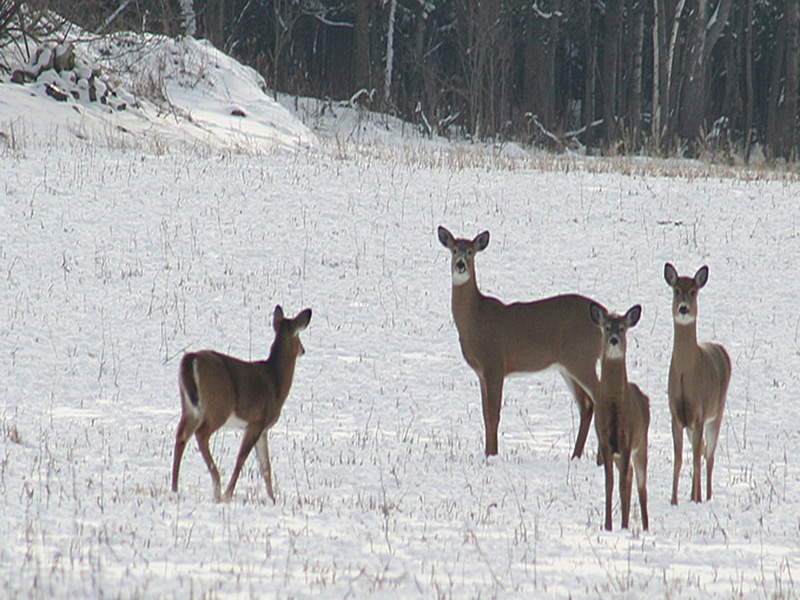cervo: (427, 222, 609, 449), (163, 295, 312, 503), (665, 257, 743, 496), (590, 301, 660, 537)
